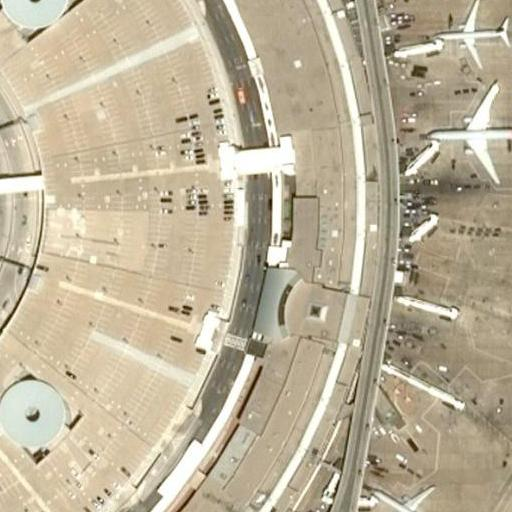Aircraft: (417, 82, 512, 178), (430, 0, 512, 67), (367, 476, 460, 512)
